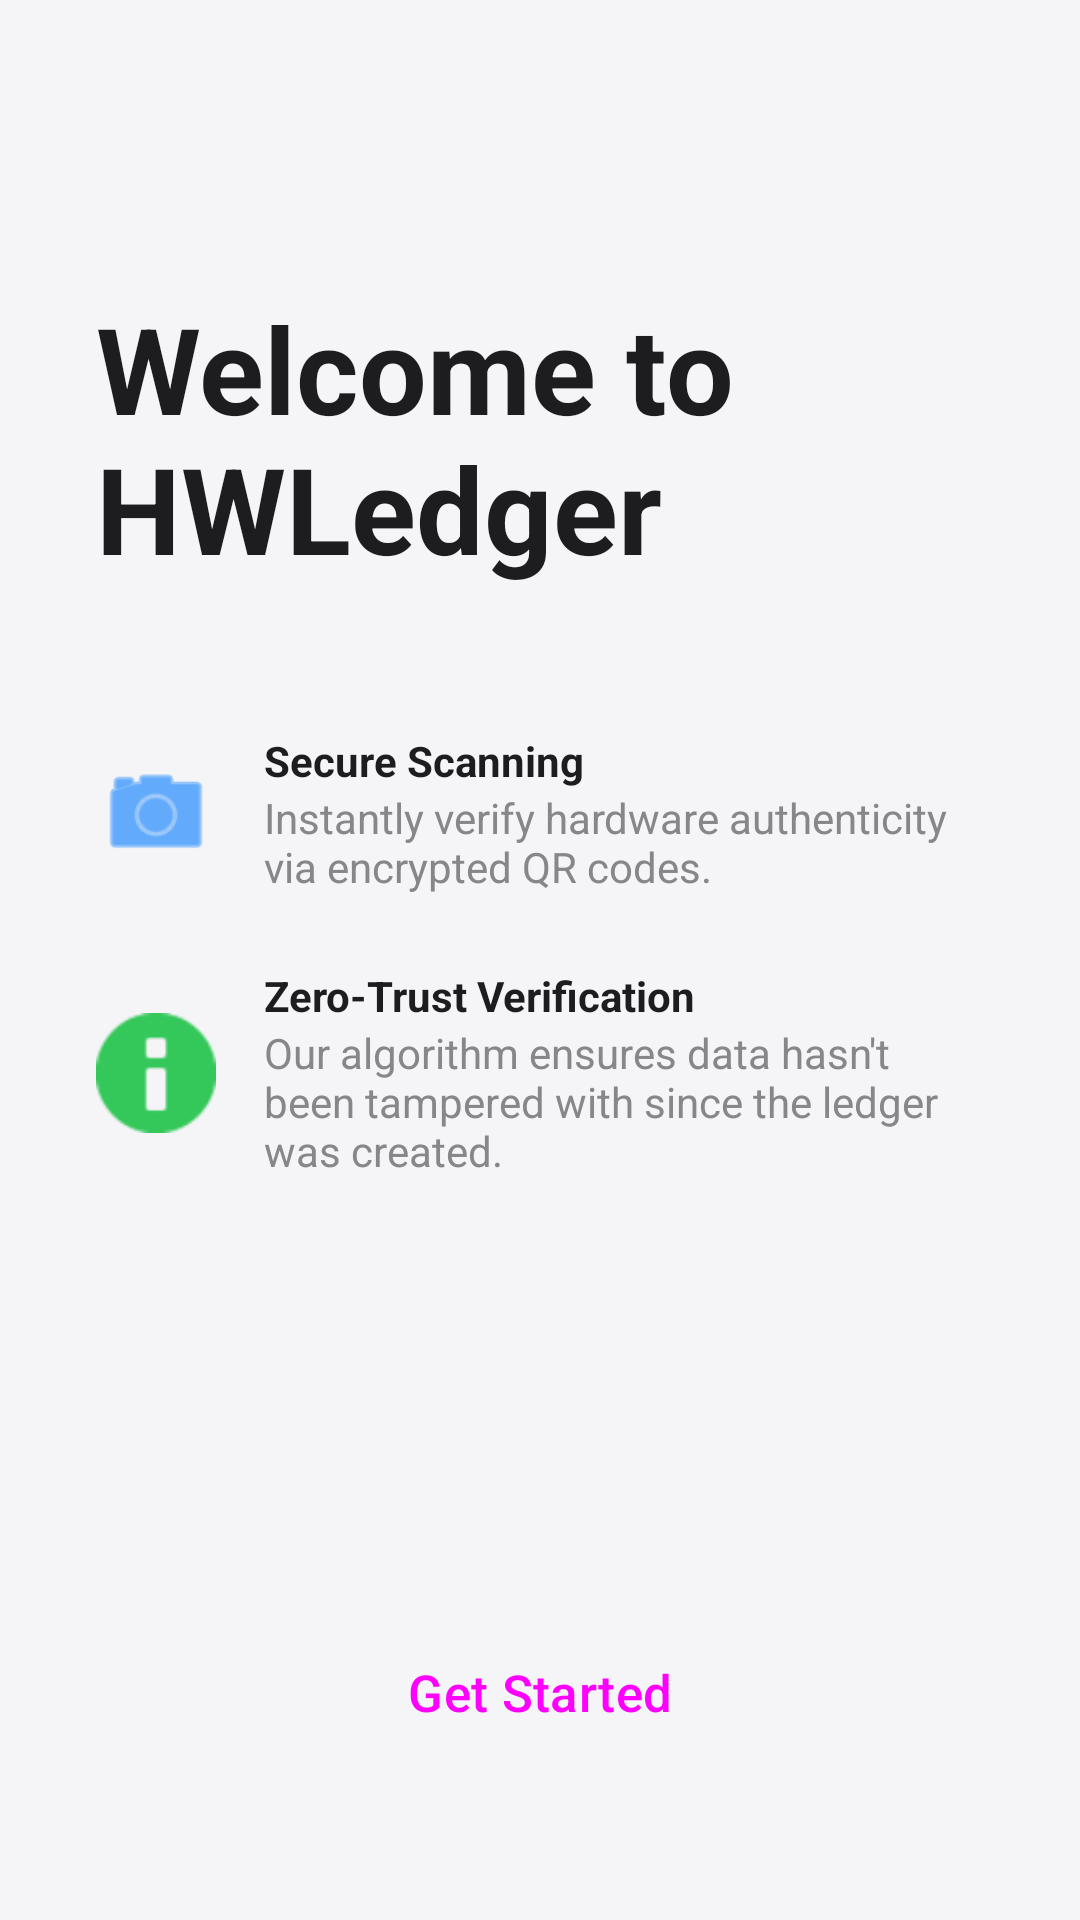

Icon click points for this 1080×1920 phone screenshot, format [x,y]:
camera: [156,811]
info: [156,1073]
